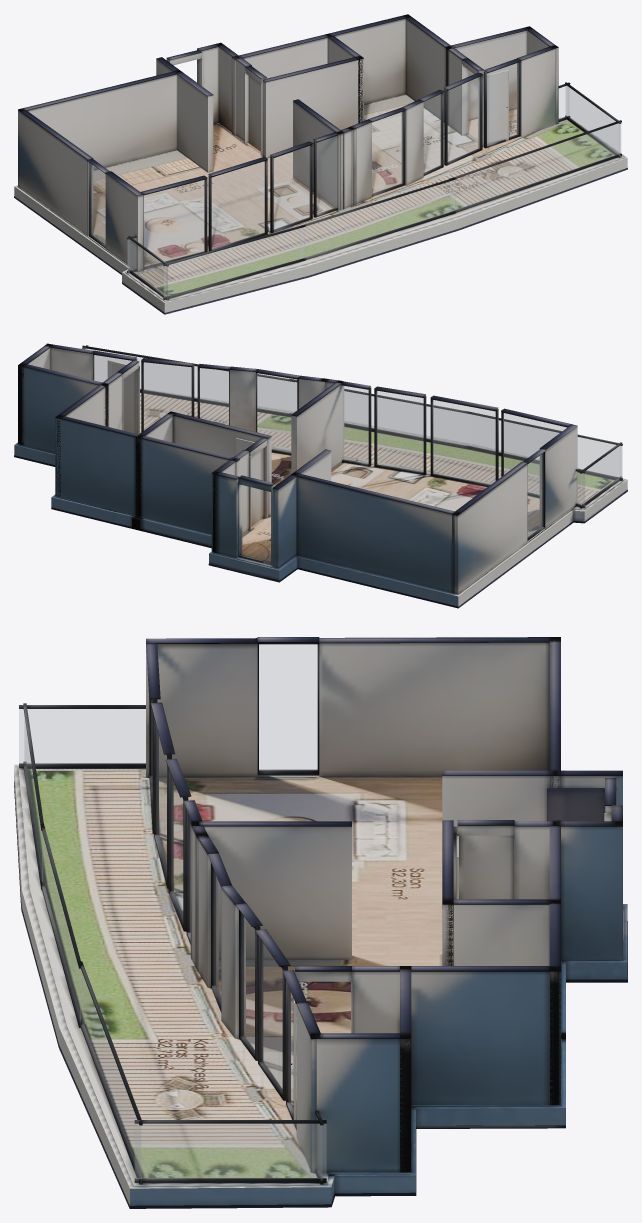
3 renders of one model, top to bottom at view 1: azimuth 30°, elevation 25°; view 2: azimuth 150°, elevation 25°; view 3: azimuth 270°, elevation 25°, orthographic. The views are drawn at different scales.
Parts seen in each view (by area): view 1: plan, railg3_m, railg4_m, railg5_m, glass0_m, glass1_m, glass2_m, glass4_m, glass6_m, glass7_m, railg1_m, glass3_m (+3 smaller); view 2: plan, glass1_m, railg3_m, railg4_m, glass2_m, railg5_m, glass6_m, glass4_m, glass0_m, glass3_m, glass5_m, railg2_m (+2 smaller); view 3: plan, railg1_m, glass8_m, railg2_m, railg3_m, glass6_m, railg4_m, glass5_m, glass2_m, glass1_m, railg5_m, glass4_m.
Part boxes in pixels (<box>): plan: <box>14,14,627,314</box>; railg3_m: <box>450,123,620,211</box>; railg4_m: <box>299,180,454,258</box>; railg5_m: <box>164,227,304,297</box>; glass0_m: <box>144,180,204,266</box>; glass1_m: <box>212,161,264,248</box>; glass2_m: <box>274,146,310,229</box>; glass4_m: <box>372,112,403,193</box>; glass6_m: <box>448,77,479,162</box>; glass7_m: <box>487,63,518,145</box>; railg1_m: <box>566,86,620,154</box>; glass3_m: <box>317,136,336,214</box>; plan: <box>14,343,627,608</box>; glass1_m: <box>433,400,495,484</box>; railg3_m: <box>86,348,294,413</box>; railg4_m: <box>296,383,466,444</box>; glass2_m: <box>377,391,423,471</box>; railg5_m: <box>472,415,622,477</box>; glass6_m: <box>143,362,191,430</box>; glass4_m: <box>257,373,296,452</box>; glass0_m: <box>503,413,566,494</box>; glass3_m: <box>343,386,368,463</box>; glass5_m: <box>200,368,228,424</box>; railg2_m: <box>581,446,620,505</box>; plan: <box>14,637,627,1208</box>; railg1_m: <box>135,1124,326,1178</box>; glass8_m: <box>259,644,317,770</box>; railg2_m: <box>19,709,145,763</box>; railg3_m: <box>81,971,141,1180</box>; glass6_m: <box>261,941,282,1091</box>; railg4_m: <box>42,833,80,1023</box>; glass5_m: <box>241,913,254,1052</box>; glass2_m: <box>171,776,182,919</box>; glass1_m: <box>156,727,166,873</box>; railg5_m: <box>24,717,42,883</box>; glass4_m: <box>214,871,220,1002</box>.
Size of the model in its own units: 15.36 by 2.62 by 9.38.
Materials: 2 (1 with a texture image).
